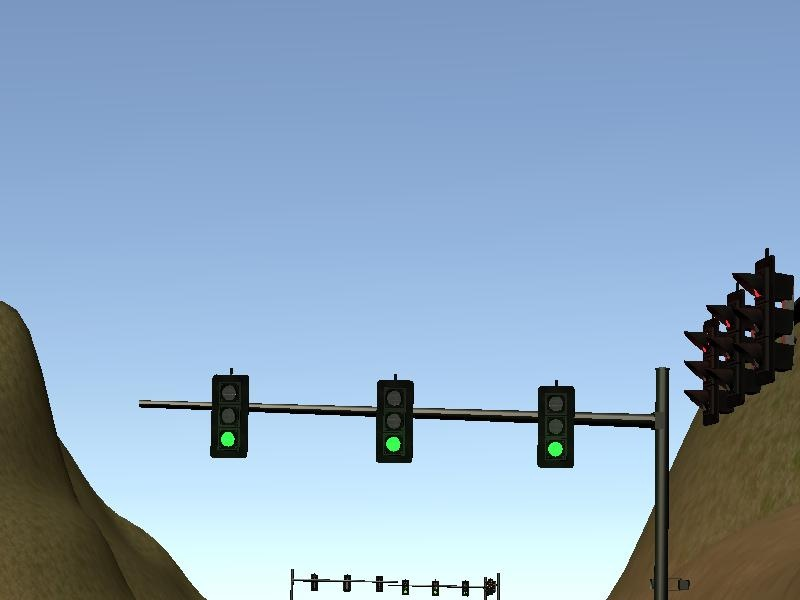green: (206, 372, 251, 462), (372, 380, 416, 468), (536, 382, 578, 471)
